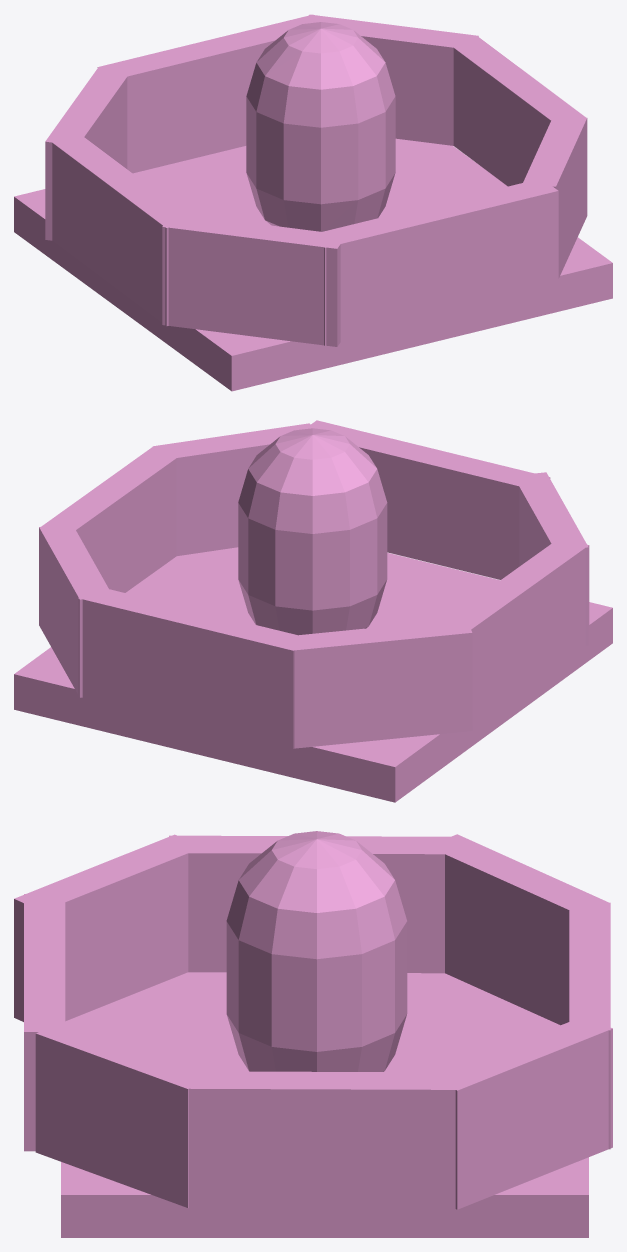
File: stn-05-physics.glb
The picture shows the model from 3 angles, top to bottom: view 1: azimuth 30°, elevation 25°; view 2: azimuth 150°, elevation 25°; view 3: azimuth 270°, elevation 25°; orthographic projection. The views are drawn at different scales.
Visible parts, largest first — view 1: root_J; view 2: root_J; view 3: root_J.
Boxes of the visible parts, x1,y1,x2,y2 form: root_J: [14, 14, 612, 391]; root_J: [14, 420, 612, 802]; root_J: [14, 831, 612, 1237].
Size of the model in its own units: 4.25 by 2.23 by 4.2.
